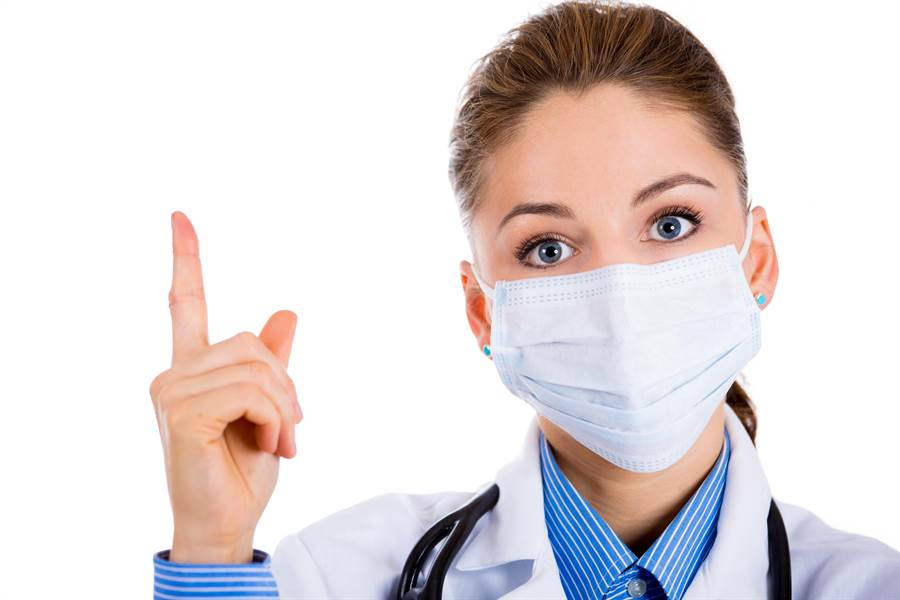Mask: (460, 94, 772, 472)
